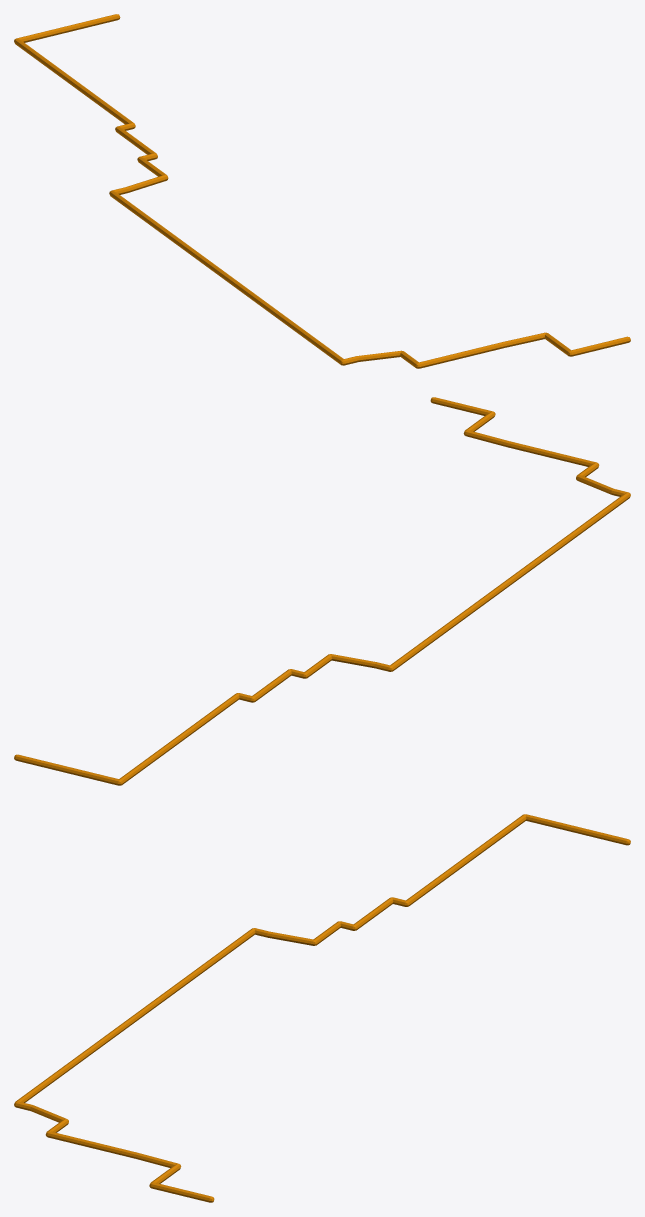
3 renders of one model, top to bottom at view 1: azimuth 30°, elevation 25°; view 2: azimuth 150°, elevation 25°; view 3: azimuth 330°, elevation 25°, orthographic. The views are drawn at different scales.
Size of the model in its own units: 849 by 20 by 2800.
